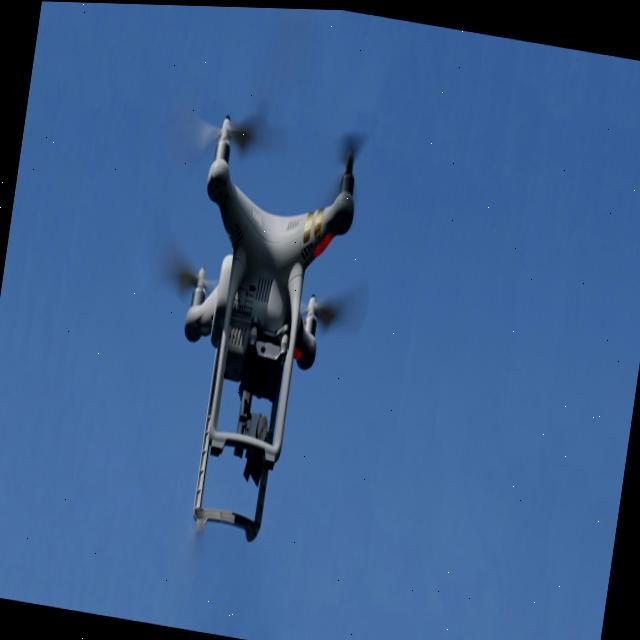drone: (113, 50, 404, 587)
